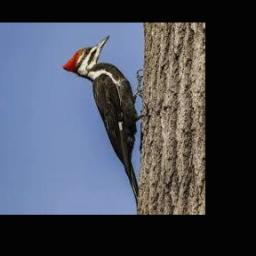Woodpecker: (62, 35, 144, 209)
